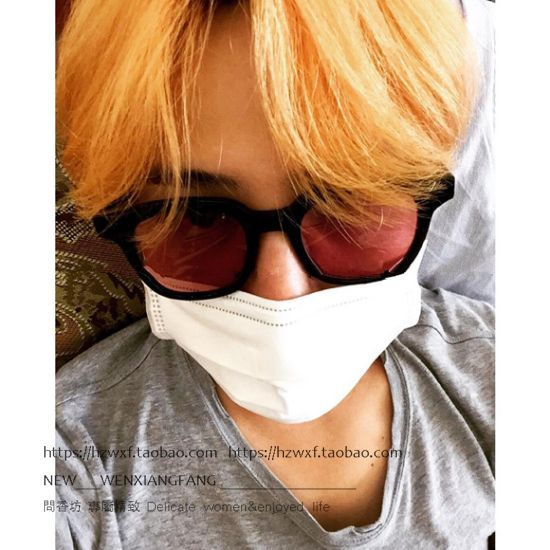face_mask: (133, 34, 427, 421)
